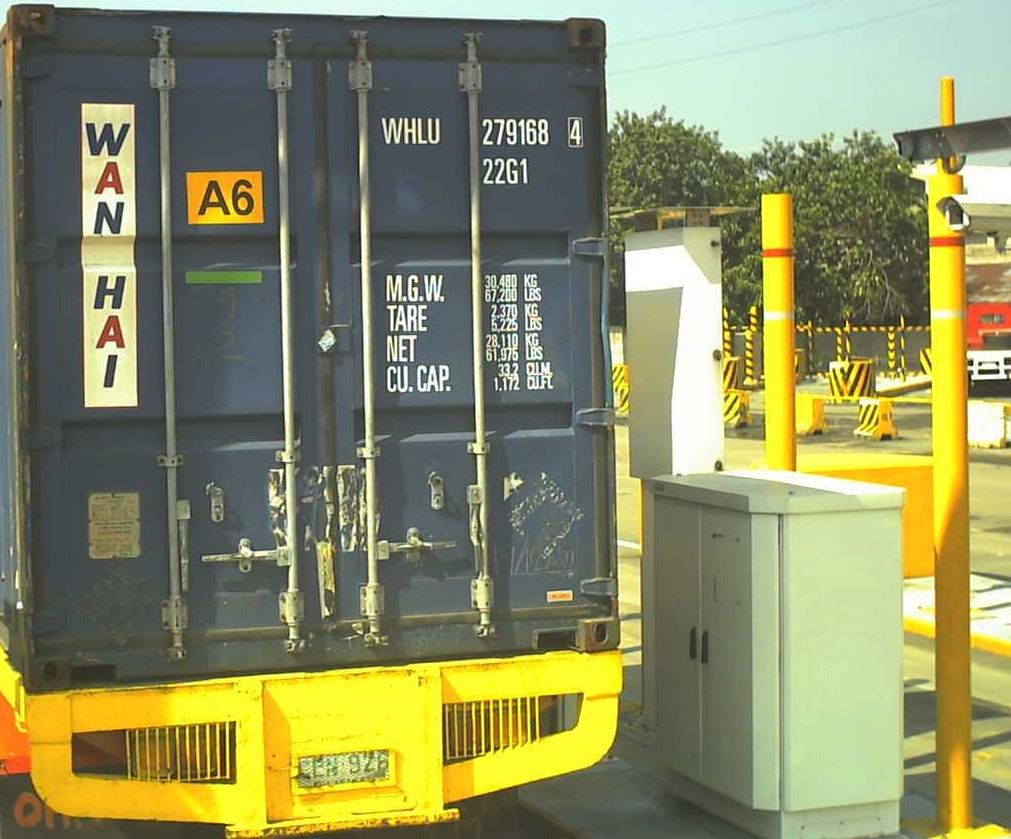container_door: (7, 9, 621, 682)
